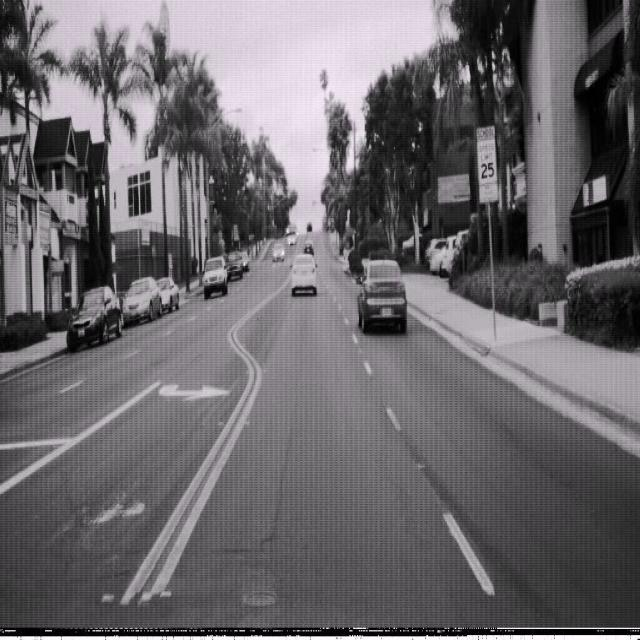speedLimit25: (476, 124, 498, 203)
